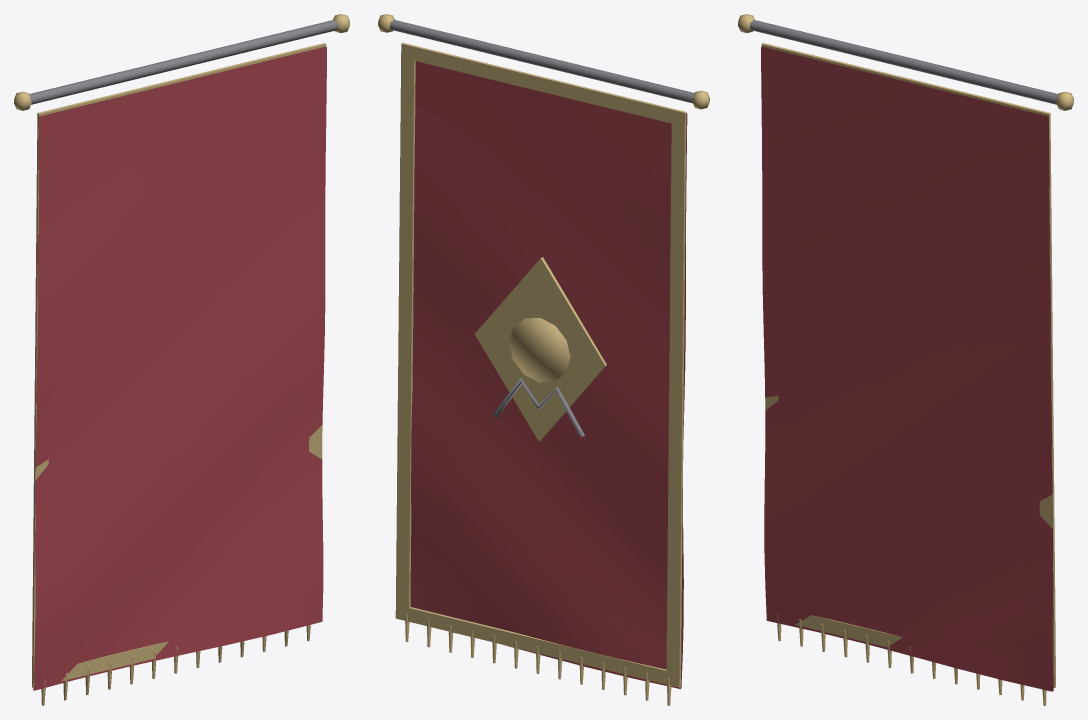
File: TapestryPanel.fbx
3 renders of one model, left to right at view 1: azimuth 30°, elevation 25°; view 2: azimuth 150°, elevation 25°; view 3: azimuth 330°, elevation 25°, orthographic.
Visible parts, largest first — view 1: TapestryPanel; view 2: TapestryPanel; view 3: TapestryPanel.
Boxes of the visible parts, x1,y1,x2,y2 form: TapestryPanel: [14, 14, 349, 705]; TapestryPanel: [378, 14, 709, 705]; TapestryPanel: [738, 14, 1073, 705].
Size of the model in its own units: 1.52 by 2.7 by 0.091.
